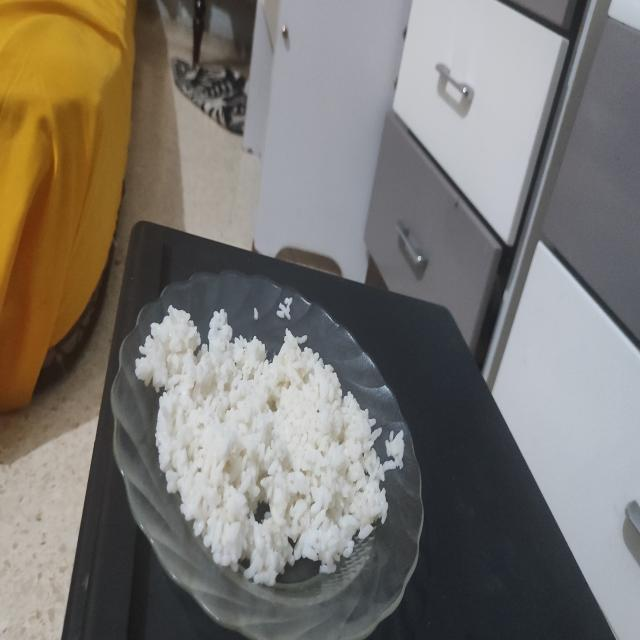nasi_putih: (136, 305, 388, 586)
